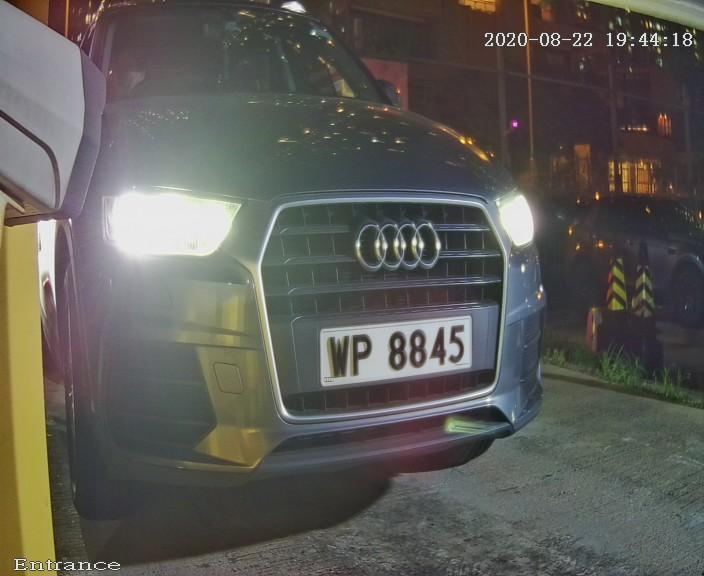Car: (29, 8, 557, 517)
License Plate: (289, 294, 514, 423)
